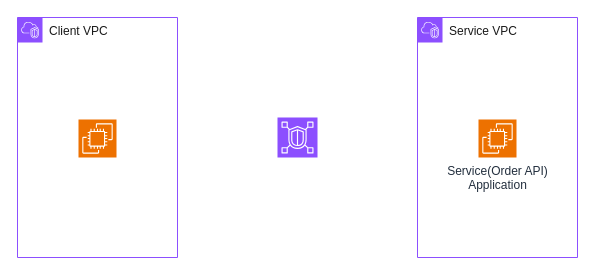
Some shapes in this 595 by 275 pixel diagram are drawn without their labels. Here are the shapes that lost their labels. From the top down, the centre of each, then its label:
At point (97, 138): "Client Application".
At point (297, 137): "VPC Lattice".
